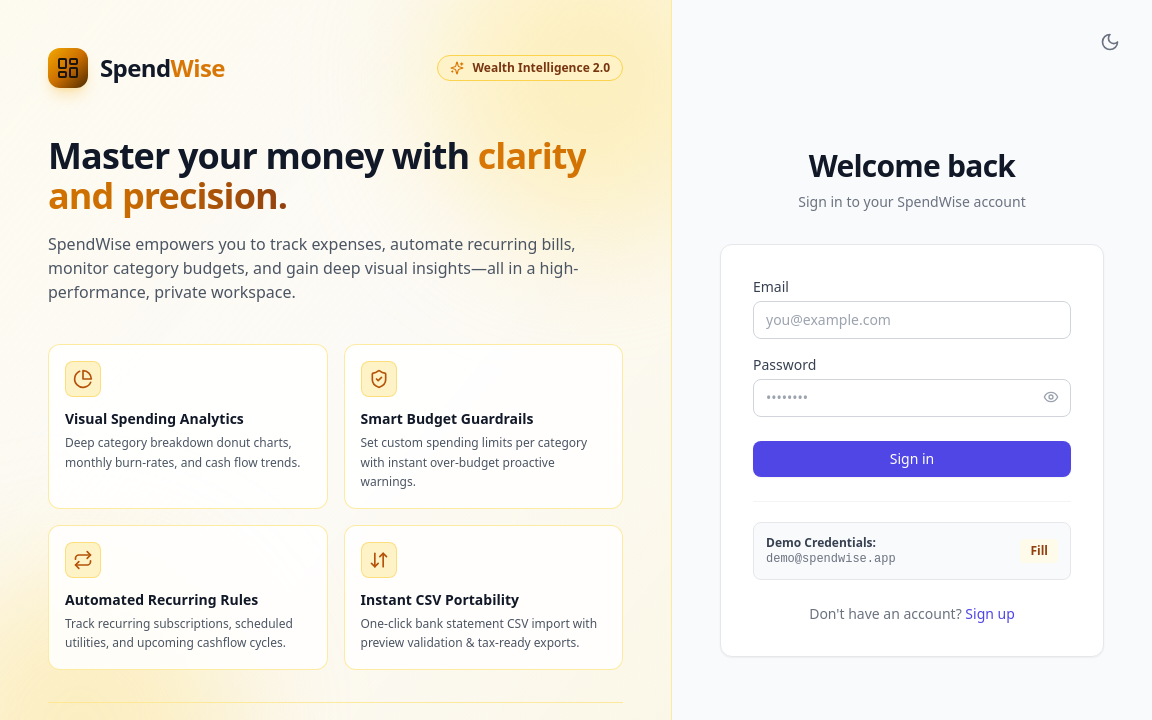
it: Login Page - Form Submission › shows loading state during submission
Type "test@example.com" into the field labelled "Email". click: (912, 320)
box: [753,301,1071,339]
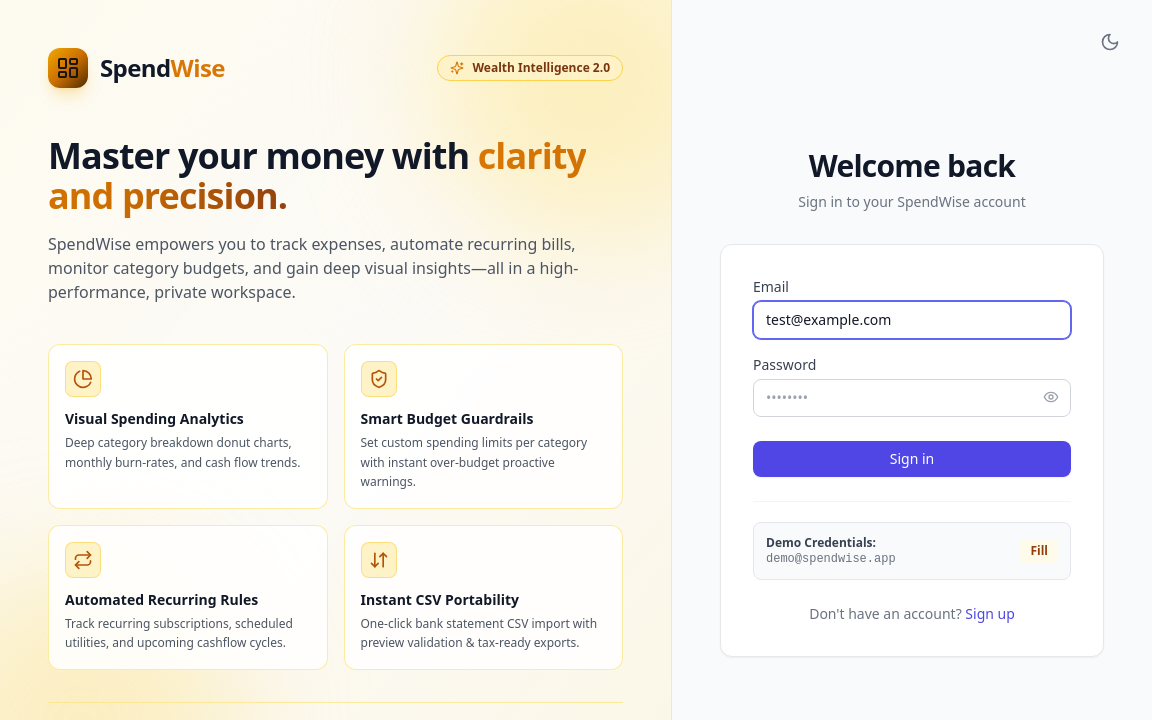
Type "password123" into the password field labelled "Password". click: (912, 398)
box: [753,379,1071,417]
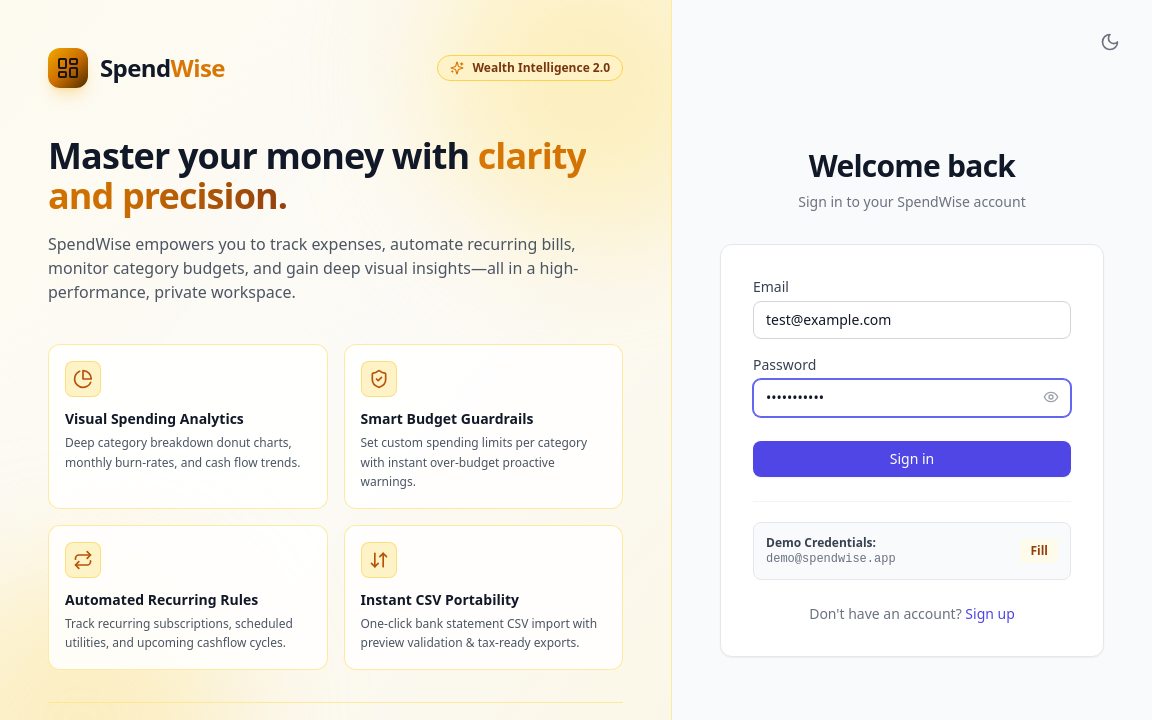
Click the button "Sign in". click: (912, 459)
box: [753,441,1071,477]
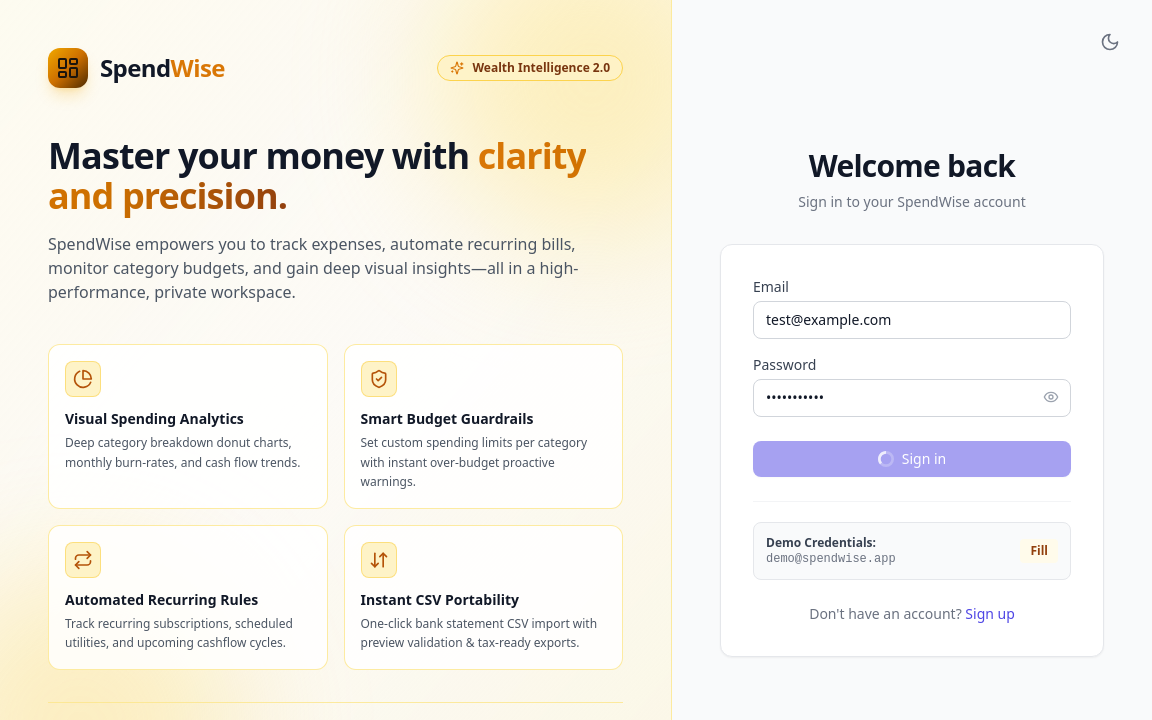
Check: the button "Sign in" is disabled, box [753,441,1071,477]
